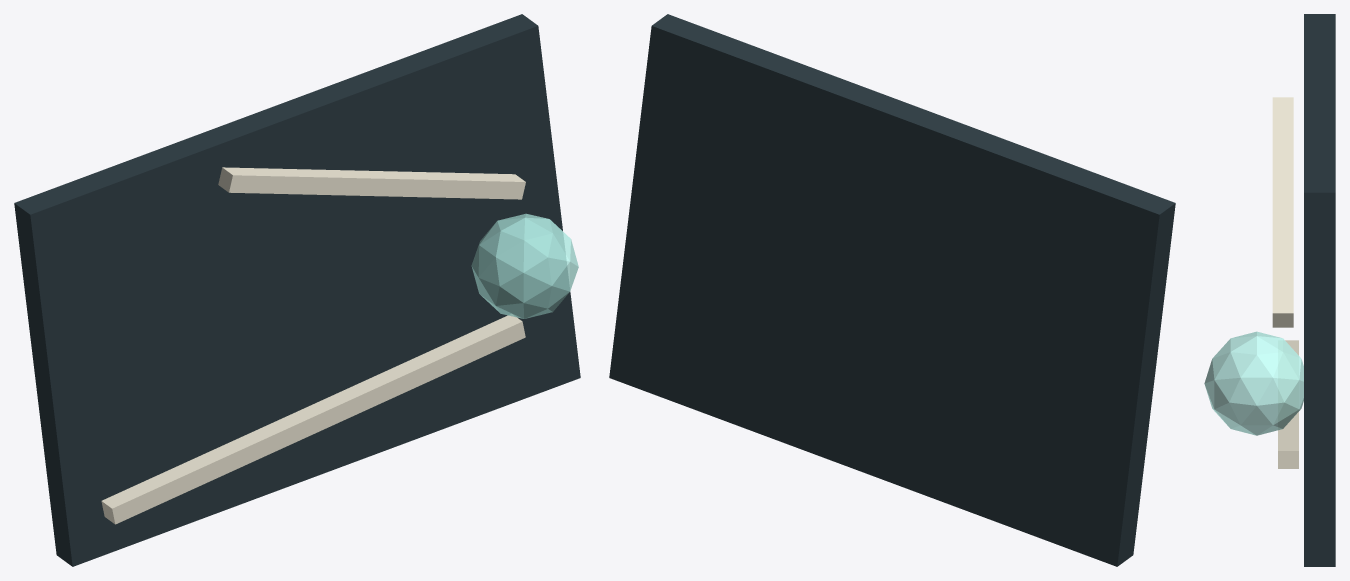
File: 02_world_prop_polish.glb
3 views of the same model, side by side, from view 1: azimuth 30°, elevation 25°; view 2: azimuth 150°, elevation 25°; view 3: azimuth 270°, elevation 25° (orthographic). The views are drawn at different scales.
Visible parts, largest first — view 1: object_overlay_plate, edge_wear_a, glow_socket, edge_wear_b; view 2: object_overlay_plate; view 3: object_overlay_plate, glow_socket, edge_wear_b, edge_wear_a.
Part boxes in pixels (x1,y1,x2,y2): object_overlay_plate: [14, 14, 580, 566]; edge_wear_a: [101, 314, 525, 524]; glow_socket: [471, 213, 578, 318]; edge_wear_b: [218, 167, 525, 199]; object_overlay_plate: [609, 14, 1175, 566]; object_overlay_plate: [1304, 14, 1335, 566]; glow_socket: [1204, 331, 1303, 435]; edge_wear_b: [1272, 97, 1293, 327]; edge_wear_a: [1278, 340, 1298, 468].
Size of the model in its own units: 1.18 by 0.8781 by 0.25.
